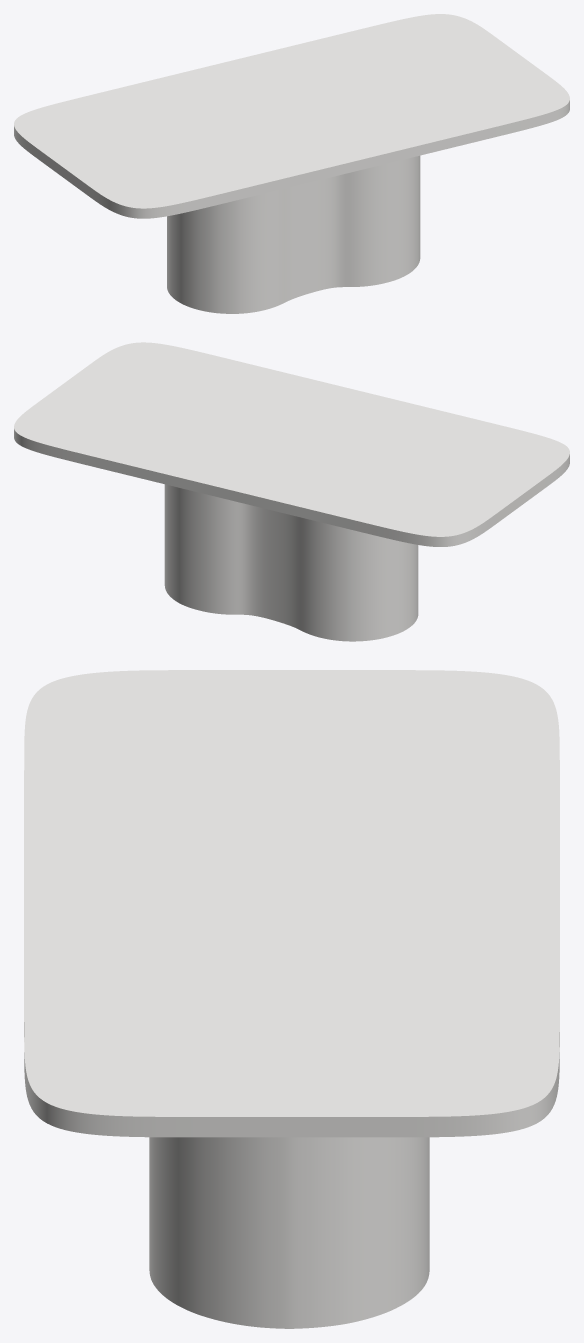
File: purewhite_softrecta_standard_riverwave.glb
3 renders of one model, top to bottom at view 1: azimuth 30°, elevation 25°; view 2: azimuth 150°, elevation 25°; view 3: azimuth 270°, elevation 25°, orthographic. The views are drawn at different scales.
Visible parts, largest first — view 1: standard_softrecta, riverwave; view 2: standard_softrecta, riverwave; view 3: standard_softrecta, riverwave.
Part boxes in pixels (bbox=[...]): standard_softrecta: bbox=[14, 14, 569, 218]; riverwave: bbox=[167, 155, 420, 313]; standard_softrecta: bbox=[14, 342, 569, 546]; riverwave: bbox=[164, 484, 418, 641]; standard_softrecta: bbox=[24, 670, 559, 1137]; riverwave: bbox=[149, 1137, 429, 1328].
Size of the model in its own units: 7.5 by 2.5 by 3.8.
Materials: 1 (1 with a texture image).
